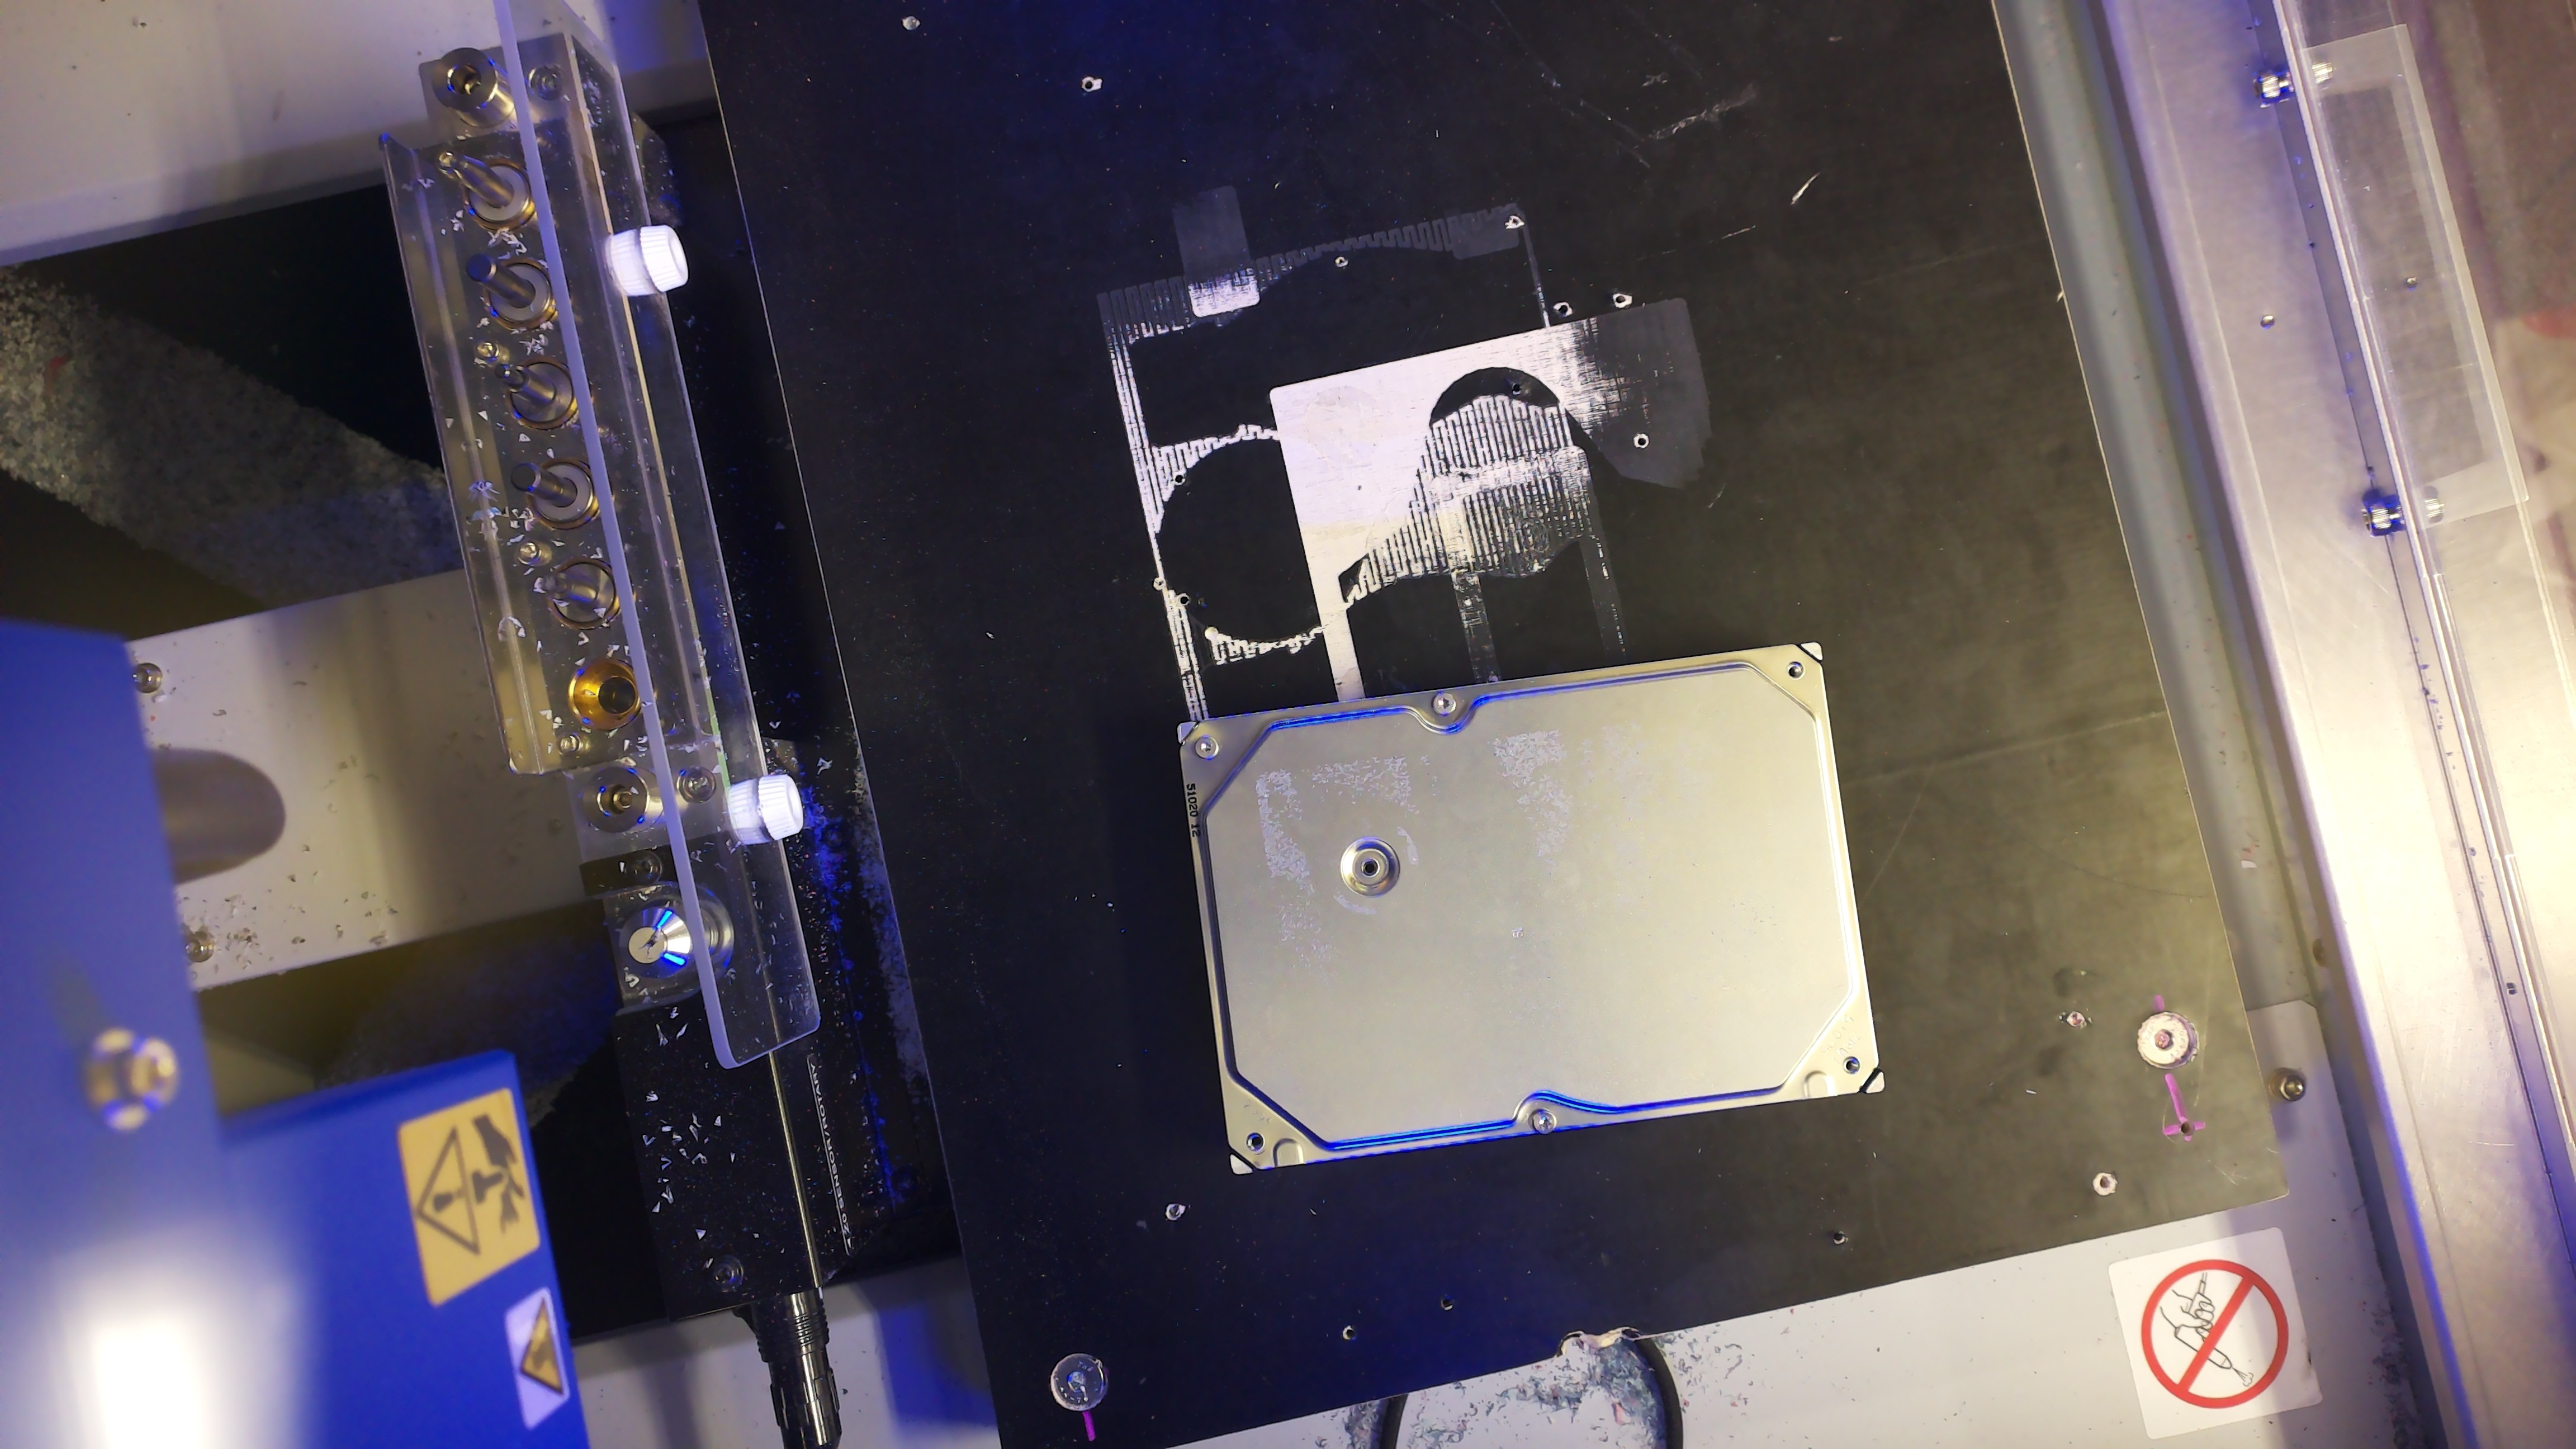Hole: (1246, 1132, 1265, 1154), (1361, 858, 1380, 878), (1842, 1056, 1861, 1074), (1785, 662, 1805, 679)
Screw: (1532, 1109, 1557, 1134), (1194, 734, 1219, 759), (1431, 692, 1456, 715)
